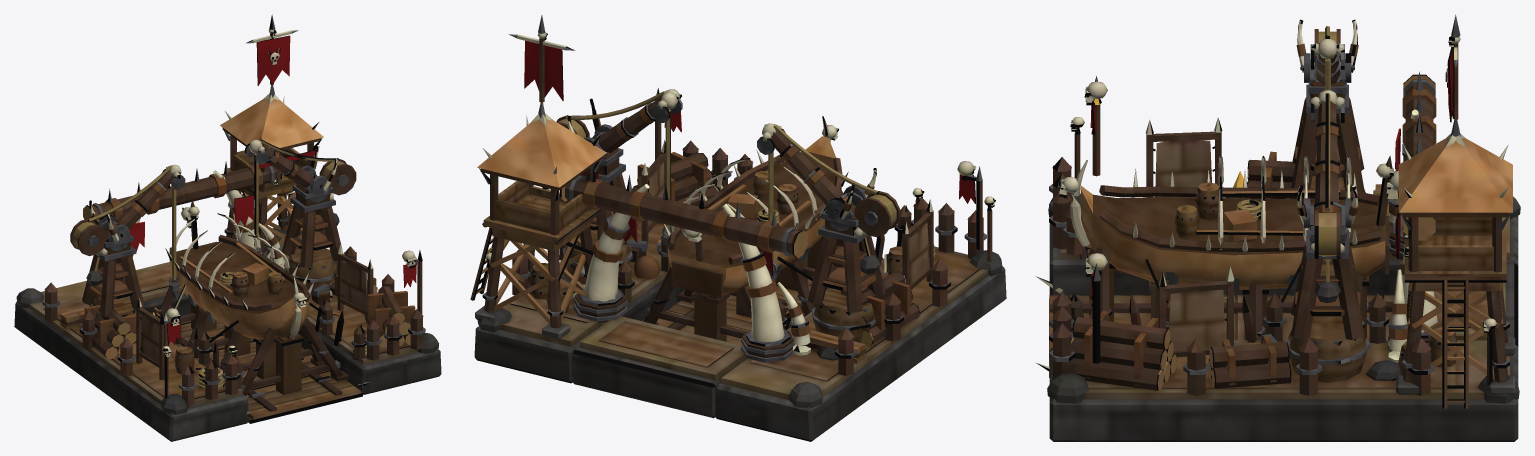
Rendered from ship_dock.glb.
The picture shows the model from 3 angles, left to right: view 1: azimuth 30°, elevation 25°; view 2: azimuth 150°, elevation 25°; view 3: azimuth 270°, elevation 25°; orthographic projection. The views are drawn at different scales.
Parts seen in each view (by area): view 1: Static_Mesh, Anim_Crane, Anim_Banners, Anim_Crane_2; view 2: Static_Mesh, Anim_Crane, Anim_Crane_2, Anim_Banners; view 3: Static_Mesh, Anim_Crane_2, Anim_Crane, Anim_Banners.
Part boxes in pixels (x1,y1,x2,y2): Static_Mesh: [14, 14, 441, 441]; Anim_Crane: [86, 164, 185, 299]; Anim_Banners: [129, 35, 416, 345]; Anim_Crane_2: [245, 139, 339, 252]; Static_Mesh: [470, 15, 1006, 441]; Anim_Crane: [757, 123, 880, 280]; Anim_Crane_2: [566, 91, 682, 254]; Anim_Banners: [524, 40, 975, 275]; Static_Mesh: [1036, 14, 1520, 441]; Anim_Crane_2: [1310, 90, 1345, 303]; Anim_Crane: [1310, 26, 1345, 95]; Anim_Banners: [1090, 47, 1453, 305].
Size of the model in its own units: 8.09 by 7.14 by 7.77.
2 materials, 2 textured.
